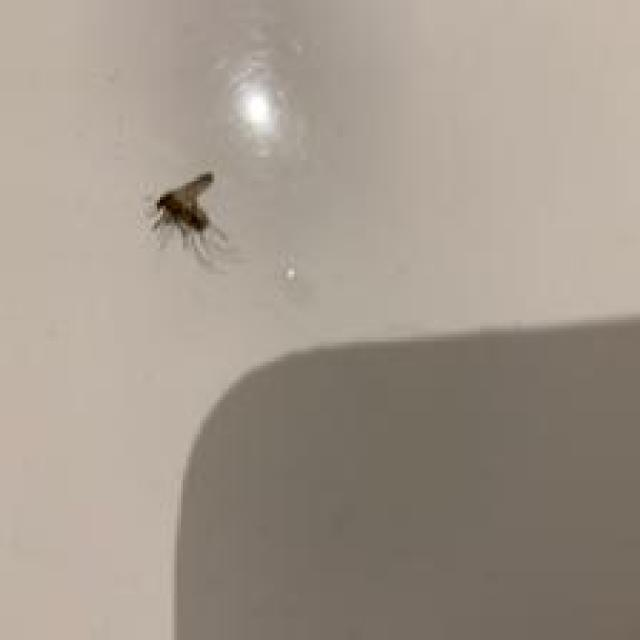Culex: (147, 170, 233, 270)
